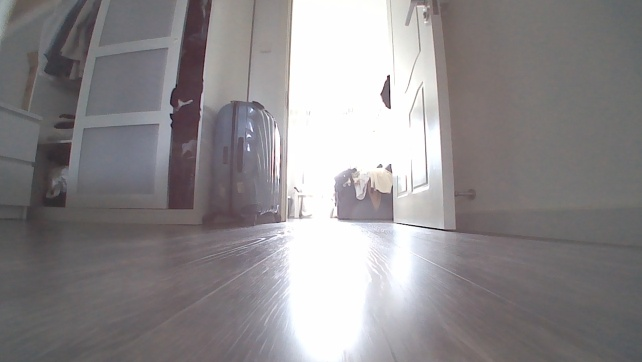door_anno: (384, 0, 459, 235)
